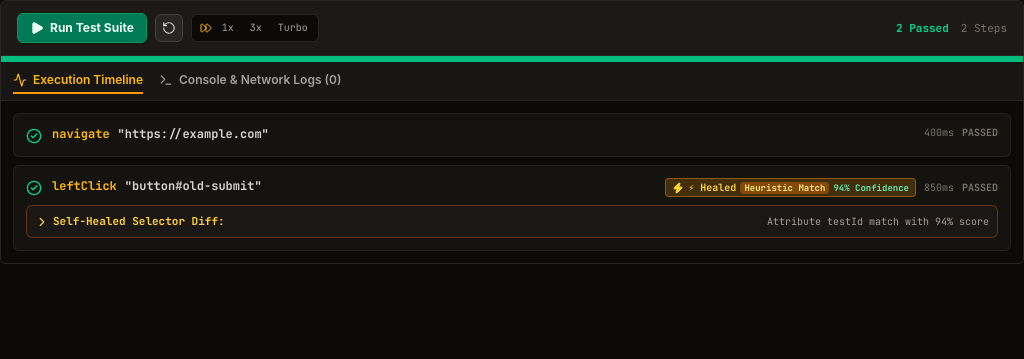
StepTimeline › expands selector diff accordion on click to show original vs replacement selector
This screenshot has width=1024, height=359.
Check: the text "Original: button#old-submit" is not shown
// Click to expand
Click the button "Self-Healed Selector Diff:" at (139, 221), box top-left (35, 214), bottom-right (989, 229)
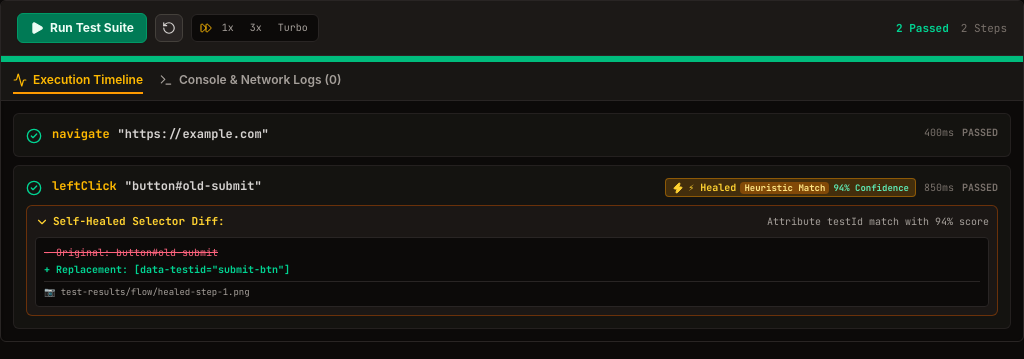
Check: the text "- Original: button#old-submit" is shown, box top-left (44, 246), bottom-right (218, 259)
Check: the text "+ Replacement: [data-testid=\"submit-btn\"]" is shown, box top-left (44, 263), bottom-right (290, 276)
Check: the text "📷 test-results/flow/healed-step-1.png" is shown, box top-left (44, 281), bottom-right (980, 298)
